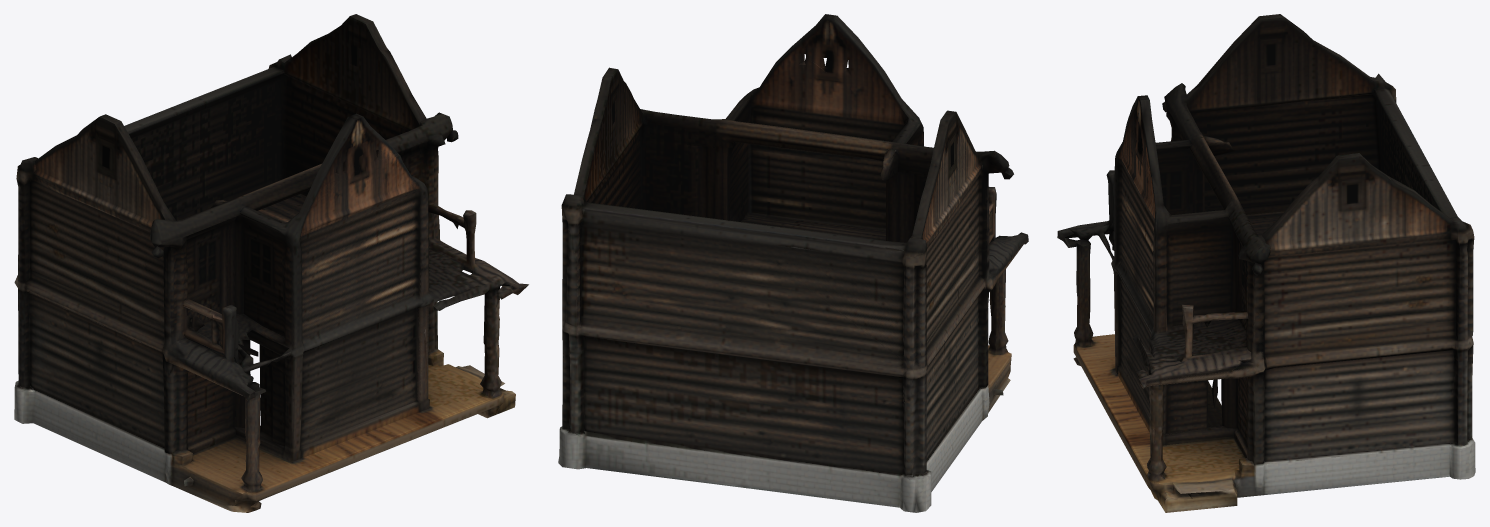
The model's file is walls2.obj.
3 renders of one model, left to right at view 1: azimuth 30°, elevation 25°; view 2: azimuth 150°, elevation 25°; view 3: azimuth 270°, elevation 25°, orthographic. The views are drawn at different scales.
Parts seen in each view (by area): view 1: Wallsgeom1; view 2: Wallsgeom1; view 3: Wallsgeom1.
Part boxes in pixels (x1,y1,x2,y2): Wallsgeom1: (14, 14, 528, 512); Wallsgeom1: (558, 14, 1028, 512); Wallsgeom1: (1057, 14, 1475, 512).
Size of the model in its own units: 21.19 by 17.55 by 19.92.
Materials: 1 (1 with a texture image).
